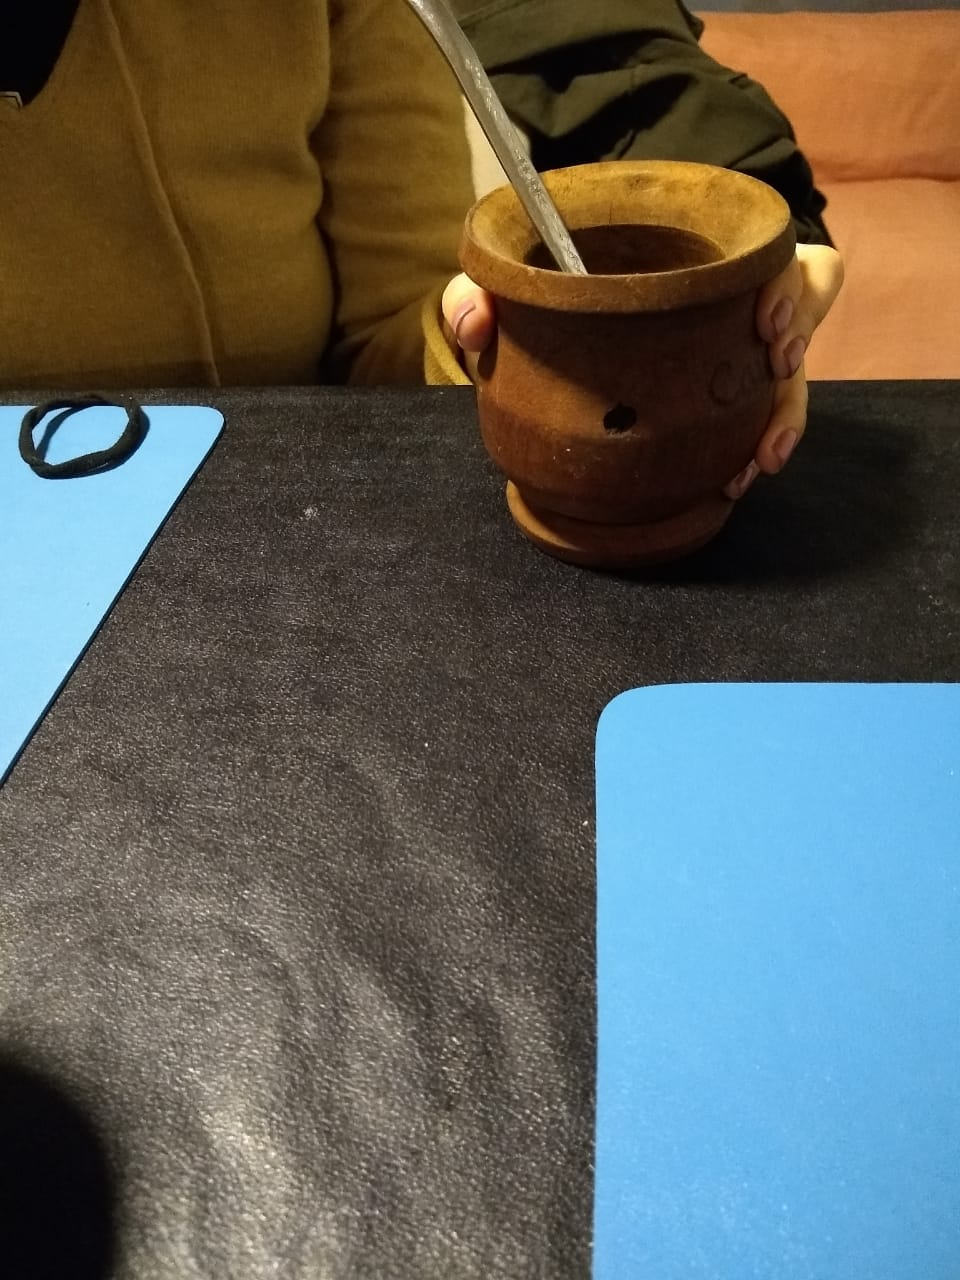madera: (407, 3, 801, 566)
mate: (405, 1, 799, 564)
